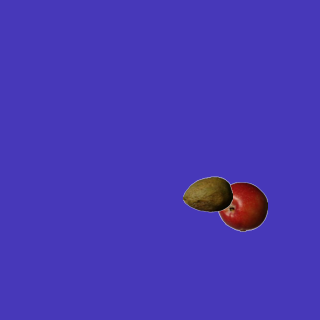Apple Braeburn: (217, 181, 267, 231)
Papaya: (182, 169, 232, 219)
